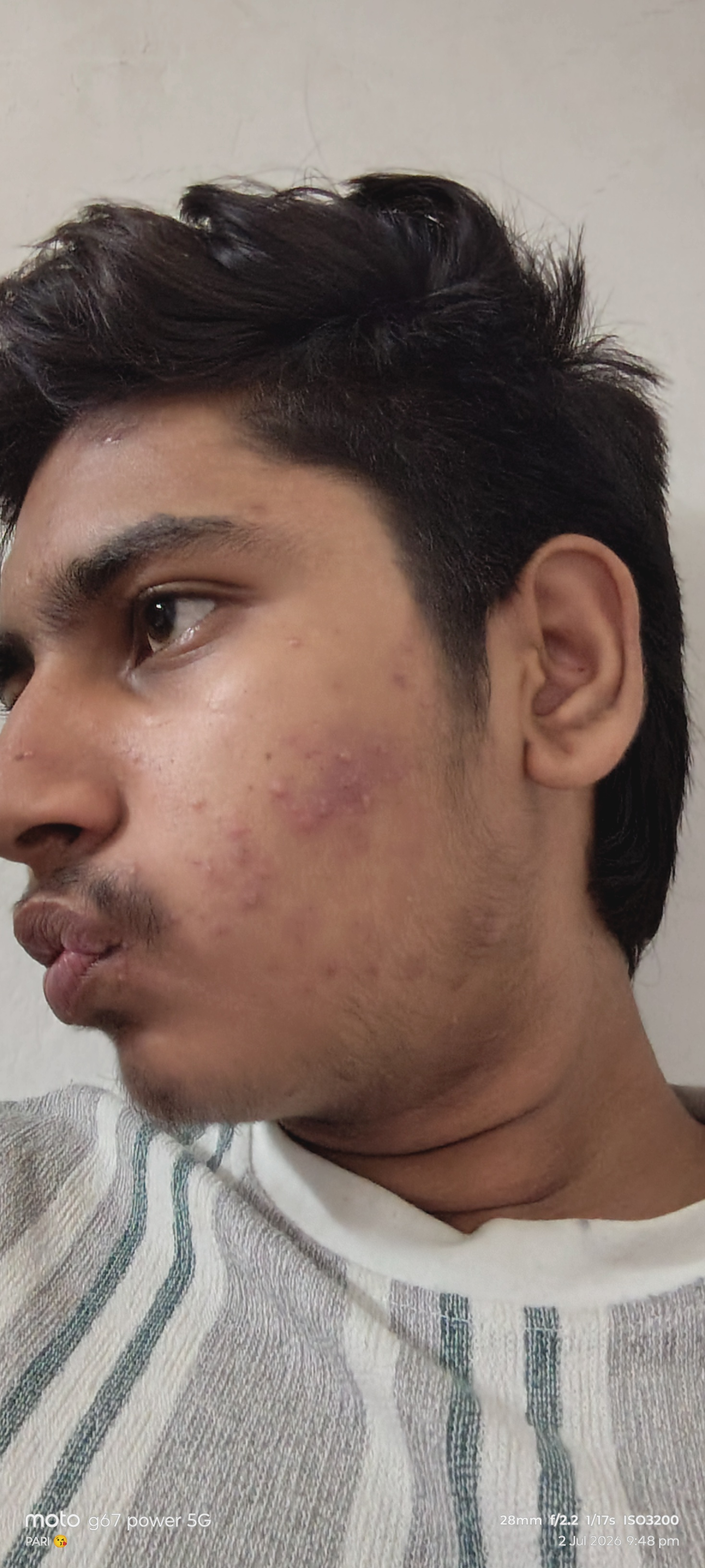closed_comedone: (200, 857, 221, 877)
nodule: (266, 775, 292, 803), (338, 746, 357, 770), (245, 891, 268, 907)
papule: (314, 795, 346, 831), (188, 796, 207, 814)
